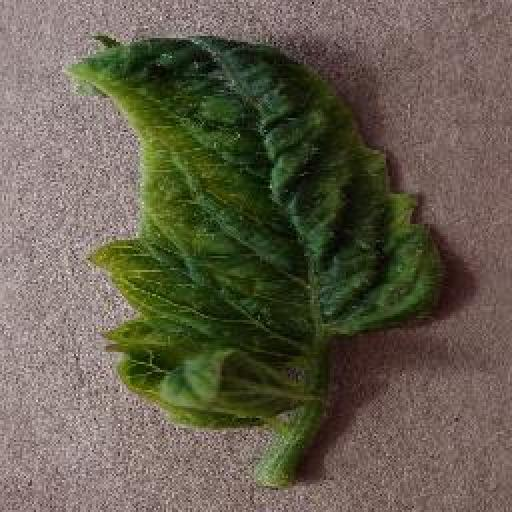Yellow Leaf Curl Virus: (69, 32, 444, 437)
